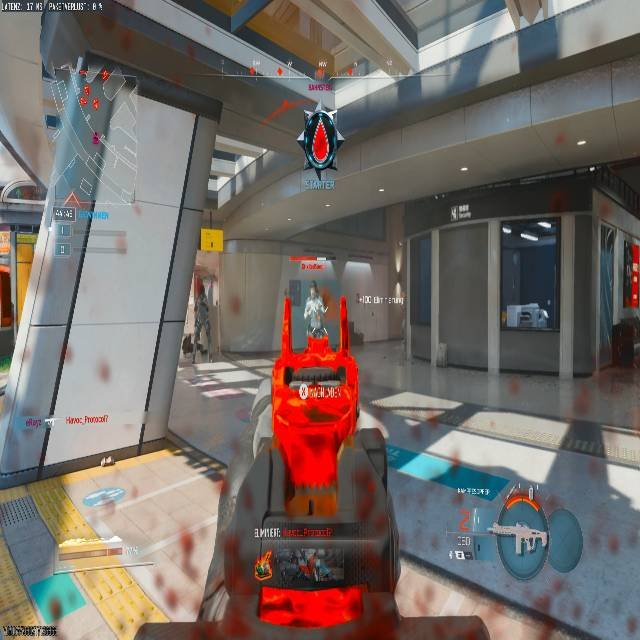head: (611, 315, 640, 365), (309, 283, 318, 297)
player: (534, 316, 640, 640), (296, 105, 341, 176), (303, 282, 329, 338)
